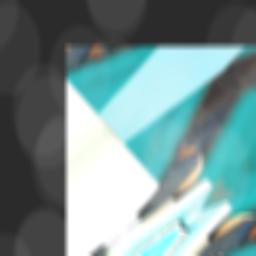Swallow: (103, 133, 217, 242)
